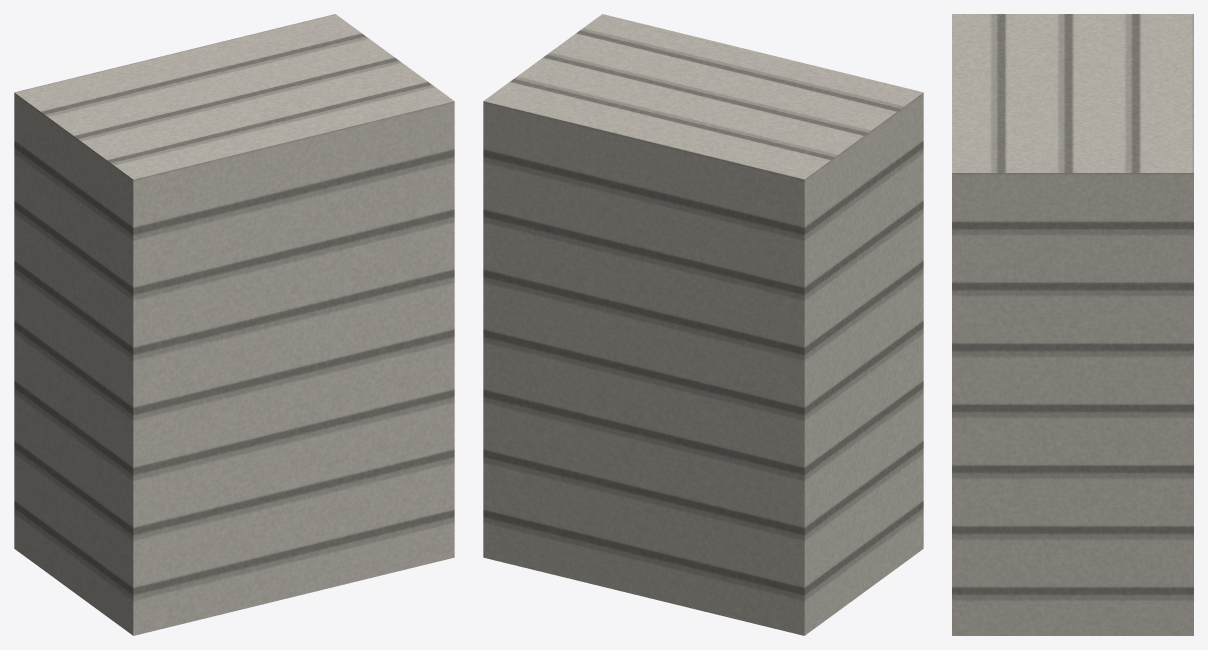
File: tool_chest_rolling_cabinet.glb
The picture shows the model from 3 angles, left to right: view 1: azimuth 30°, elevation 25°; view 2: azimuth 150°, elevation 25°; view 3: azimuth 270°, elevation 25°; orthographic projection.
Visible parts, largest first — view 1: tool_chest_rolling_cabinet-col; view 2: tool_chest_rolling_cabinet-col; view 3: tool_chest_rolling_cabinet-col.
Part boxes in pixels (x1,y1,x2,y2): tool_chest_rolling_cabinet-col: [14, 14, 454, 635]; tool_chest_rolling_cabinet-col: [483, 14, 923, 635]; tool_chest_rolling_cabinet-col: [952, 14, 1193, 635].
Size of the model in its own units: 0.7 by 0.95 by 0.45.
1 material, 1 textured.
